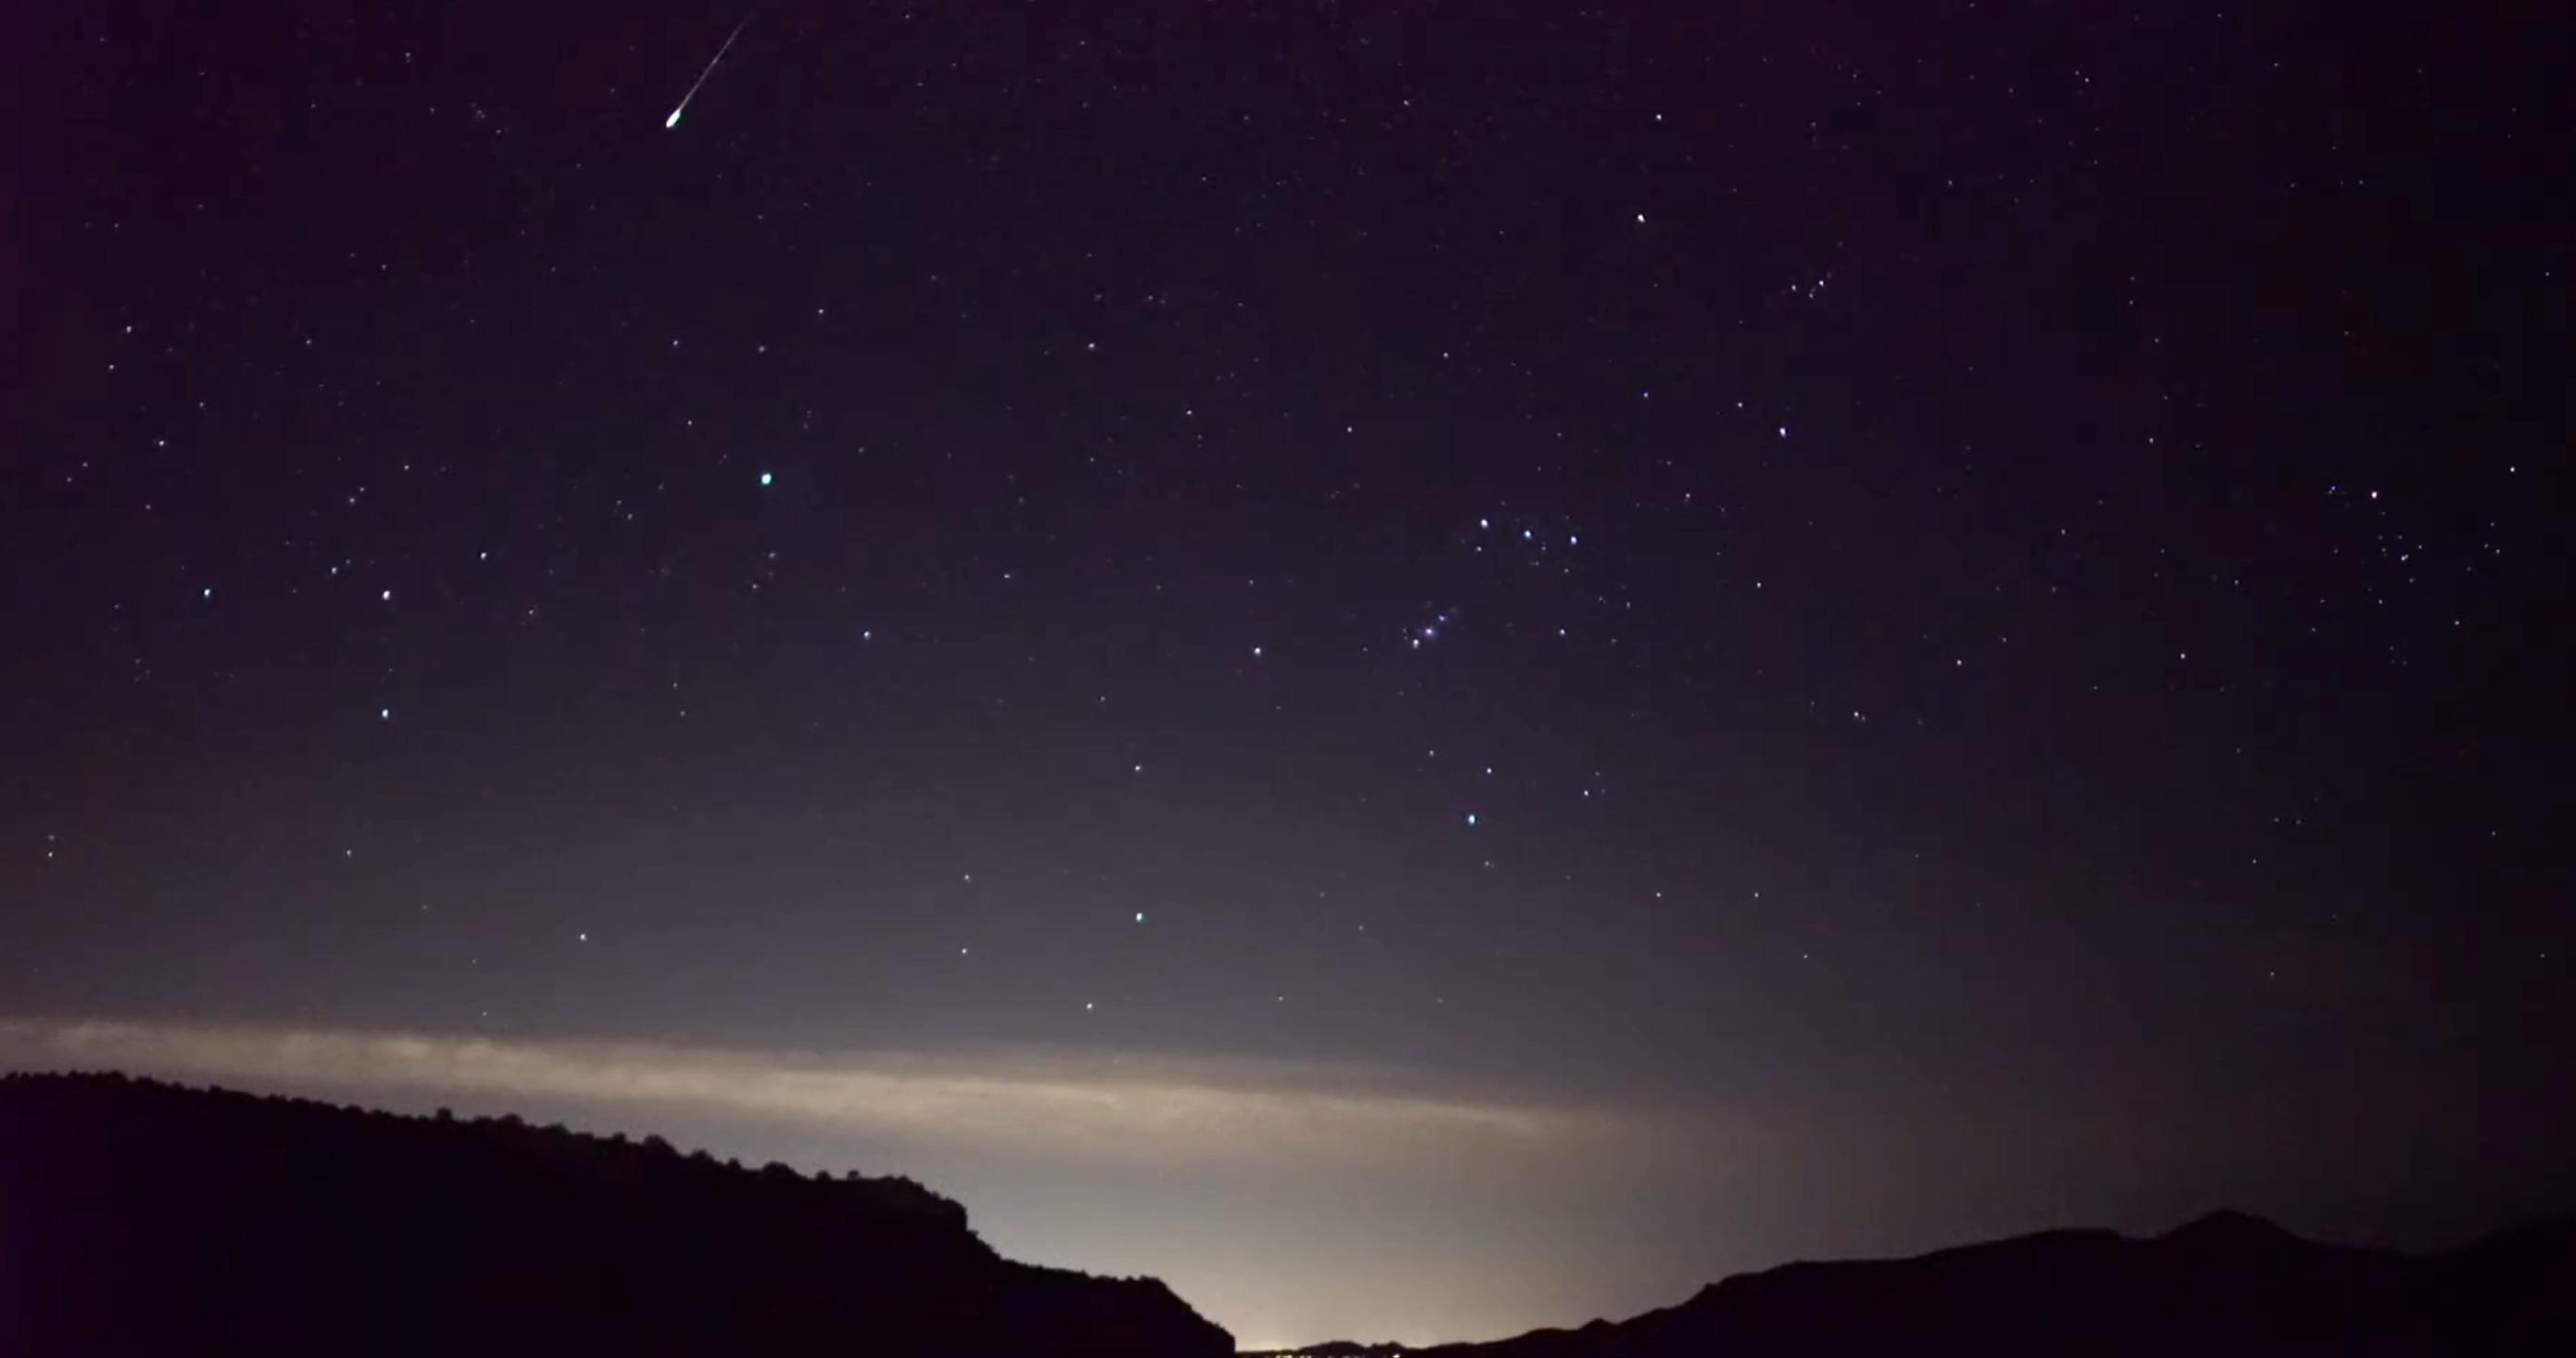meteorite: (613, 14, 787, 143)
